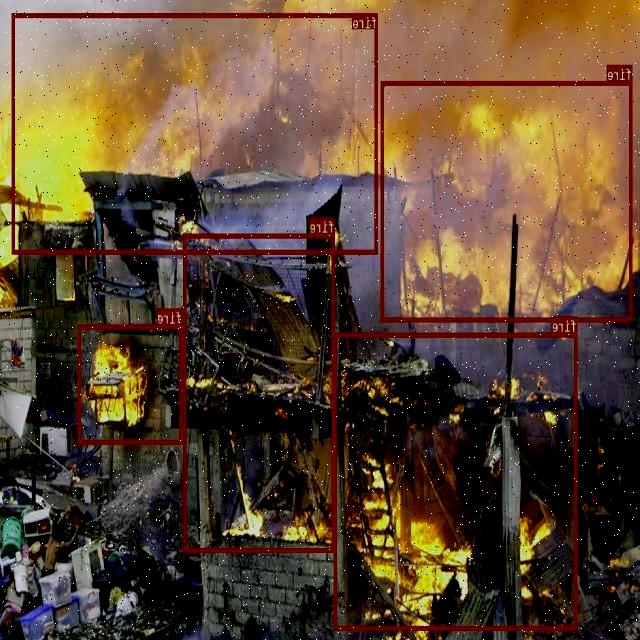fire: (12, 12, 378, 254), (334, 332, 578, 629), (382, 80, 632, 322), (184, 233, 336, 552), (79, 324, 183, 444)
